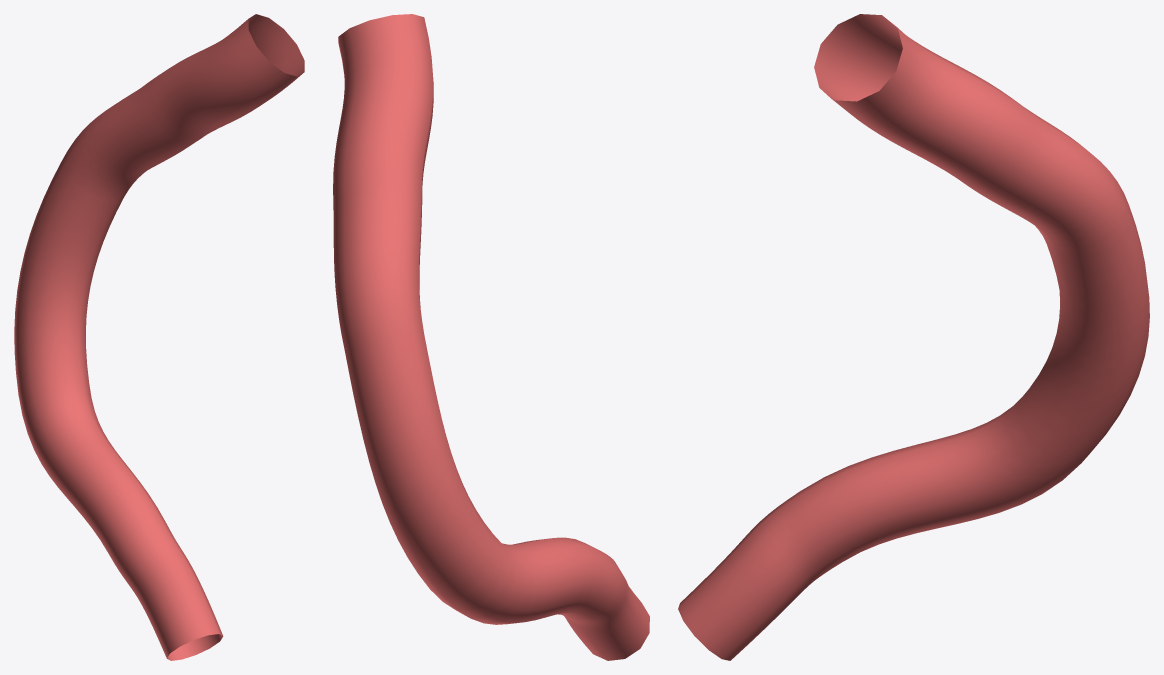
The model's file is External_iliac_artery.r_BezierCurve.247.glb.
3 renders of one model, left to right at view 1: azimuth 30°, elevation 25°; view 2: azimuth 150°, elevation 25°; view 3: azimuth 270°, elevation 25°, orthographic. The views are drawn at different scales.
Parts seen in each view (by area): view 1: External_iliac_artery.r_BezierCurve.247; view 2: External_iliac_artery.r_BezierCurve.247; view 3: External_iliac_artery.r_BezierCurve.247.
Boxes of the visible parts, x1=… form: External_iliac_artery.r_BezierCurve.247: x1=14, y1=14, x2=304, y2=660; External_iliac_artery.r_BezierCurve.247: x1=333, y1=14, x2=649, y2=660; External_iliac_artery.r_BezierCurve.247: x1=678, y1=14, x2=1149, y2=660.
Bounding box in the file's own units: 0.0376 × 0.0955 × 0.0569.
